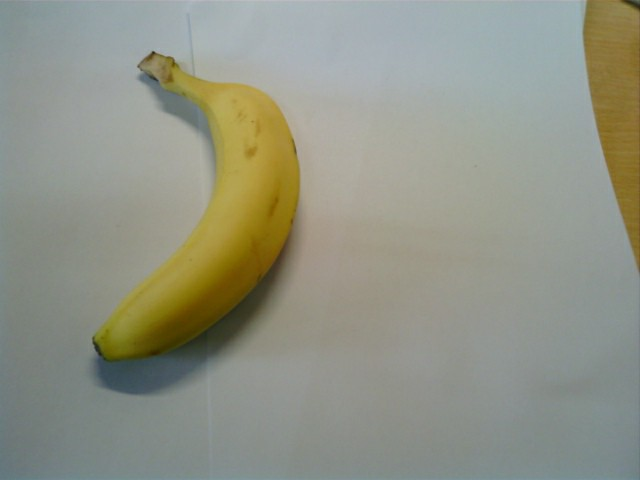fresh_banana: (87, 74, 302, 365)
